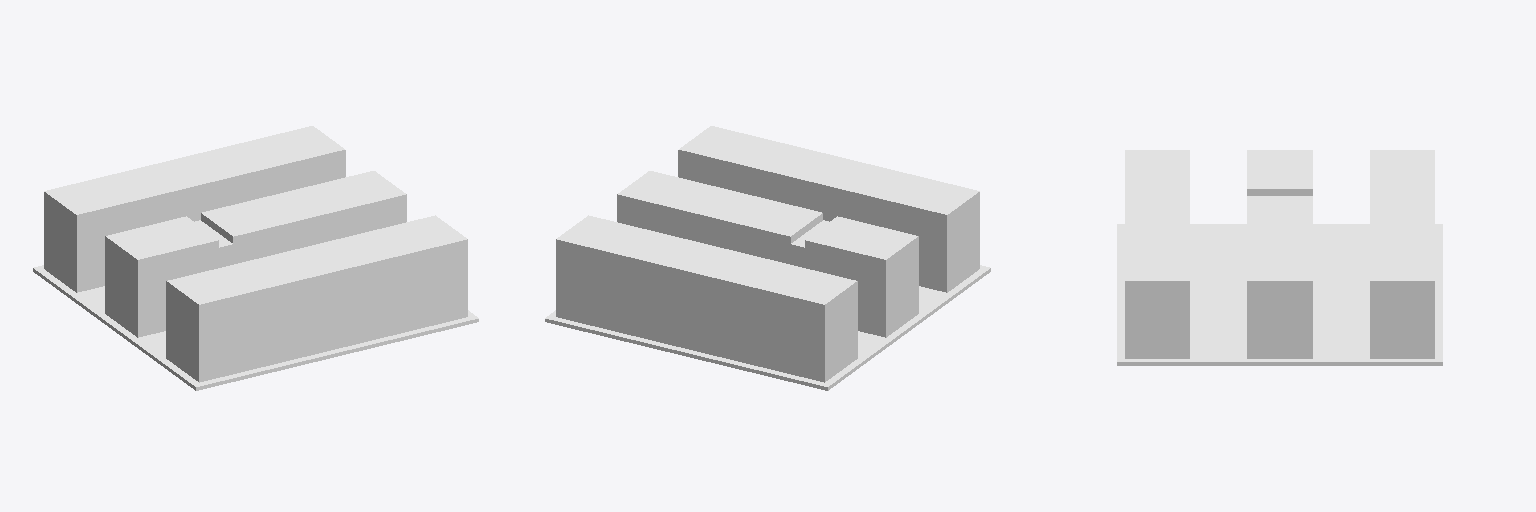
Rendered from Asset-27.obj.
3 views of the same model, side by side, from view 1: azimuth 30°, elevation 25°; view 2: azimuth 150°, elevation 25°; view 3: azimuth 270°, elevation 25° (orthographic).
Visible parts, largest first — view 1: Asset-27; view 2: Asset-27; view 3: Asset-27.
Part boxes in pixels (x1,y1,x2,y2): Asset-27: (33,126,478,390); Asset-27: (545,126,990,390); Asset-27: (1117,150,1442,365).
Bounding box in the file's own units: 80 × 22 × 80.